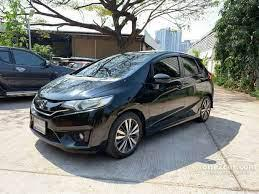Hatchback: (24, 46, 219, 159)
